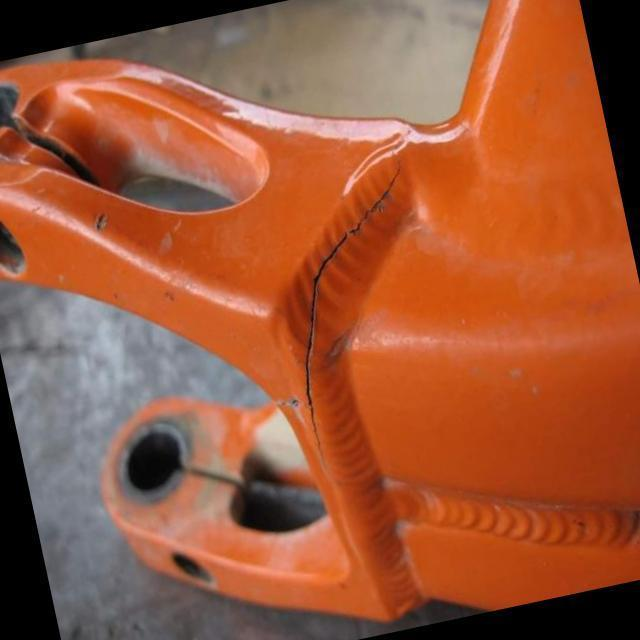defect: (271, 144, 406, 491)
